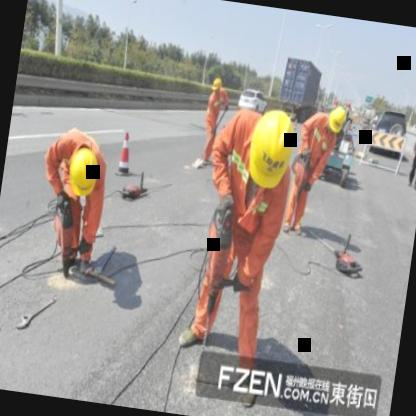helmet: (240, 104, 302, 198), (61, 140, 105, 206), (325, 102, 350, 139), (209, 72, 226, 94)
